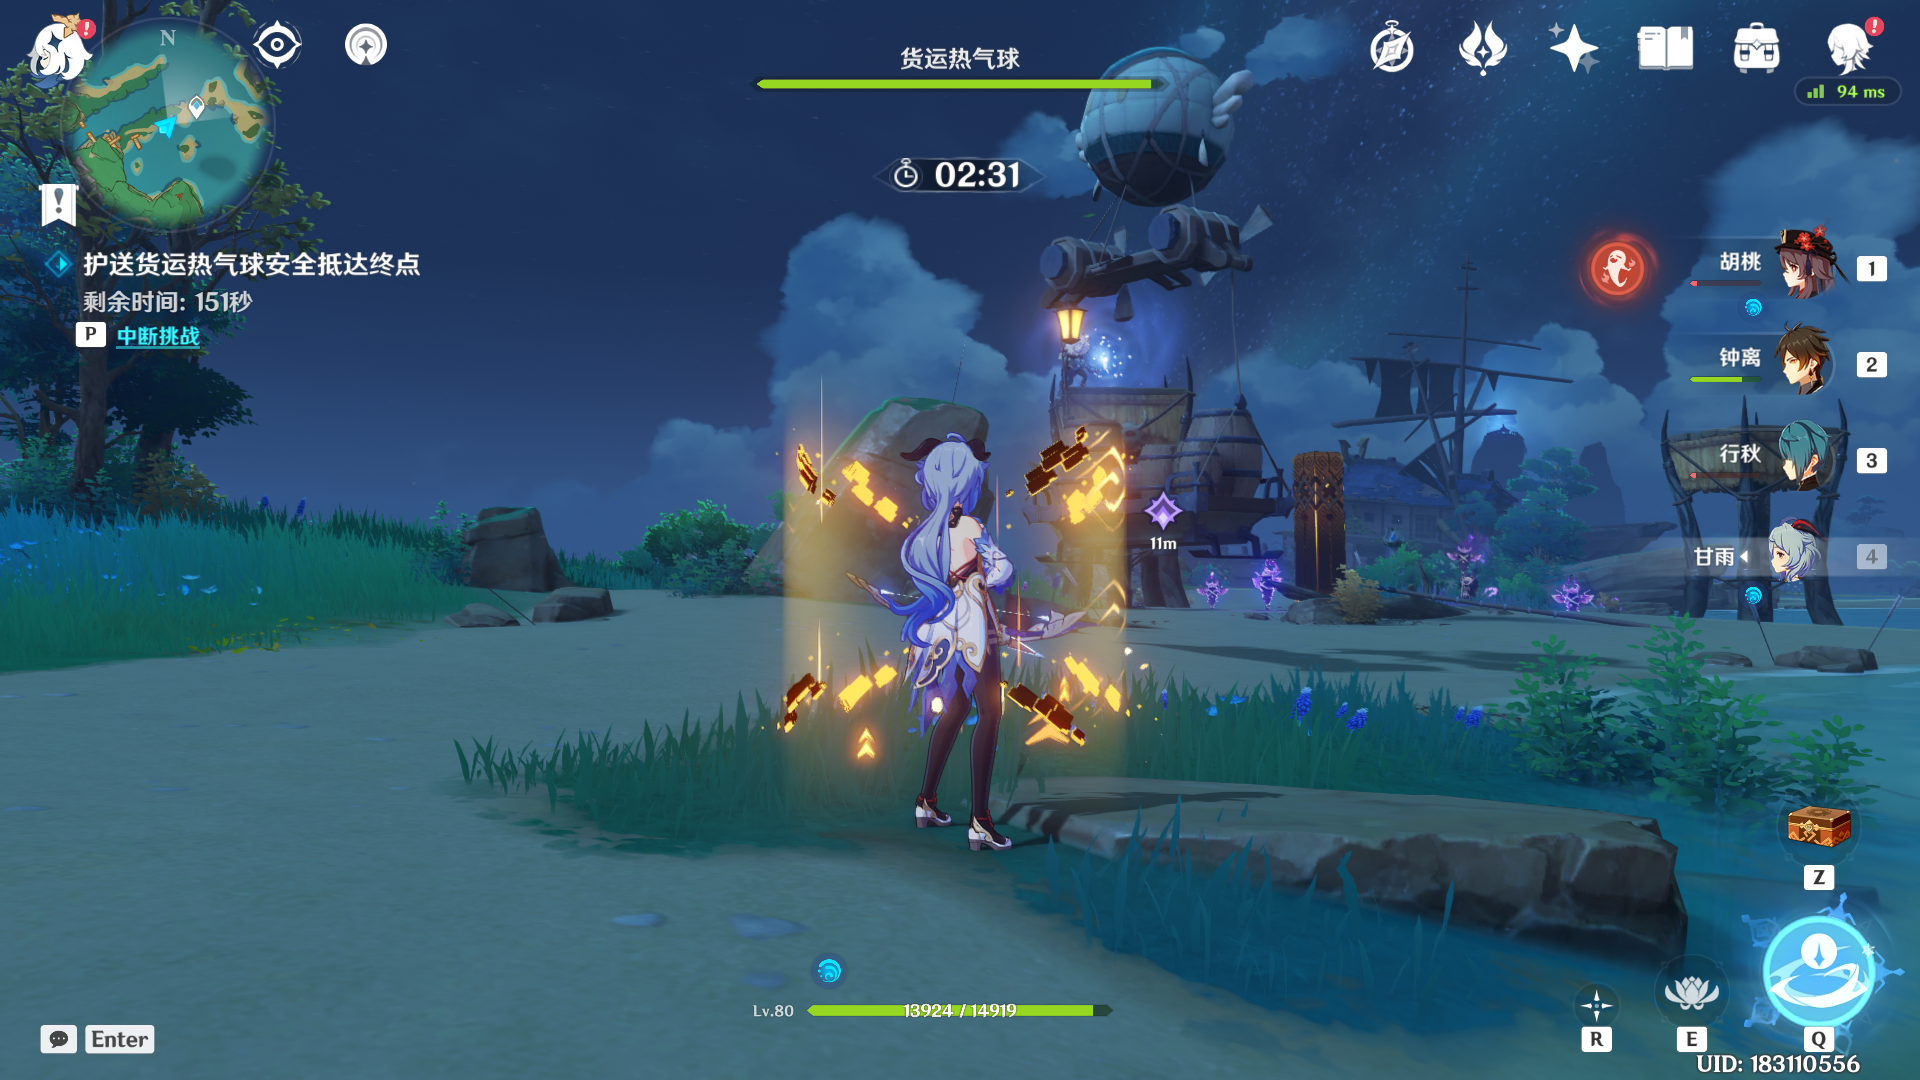character: (802, 415, 1120, 889)
